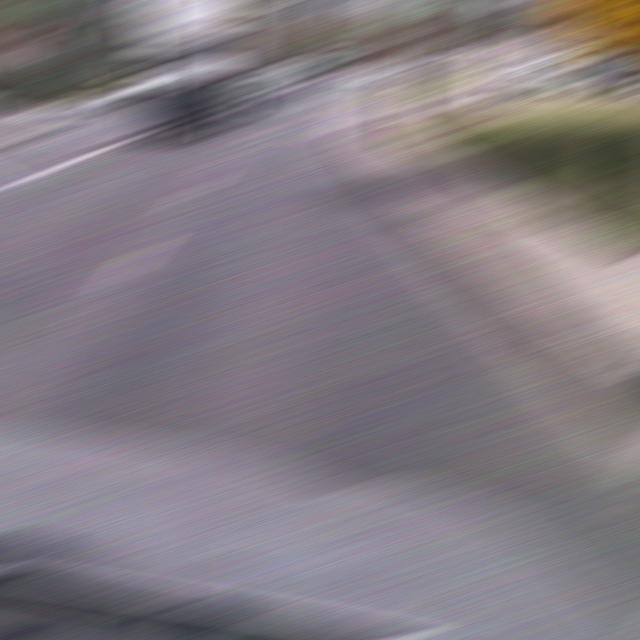stop: (386, 22, 430, 49), (2, 33, 47, 58)
